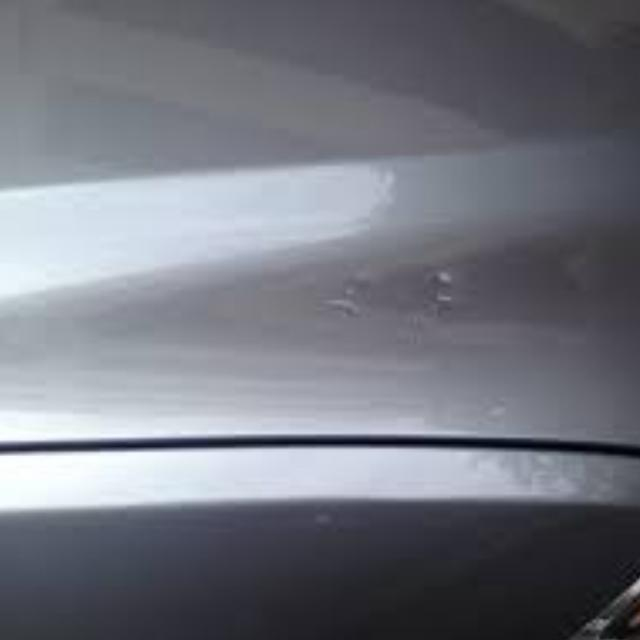dents: (408, 235, 476, 342), (327, 247, 380, 332)
